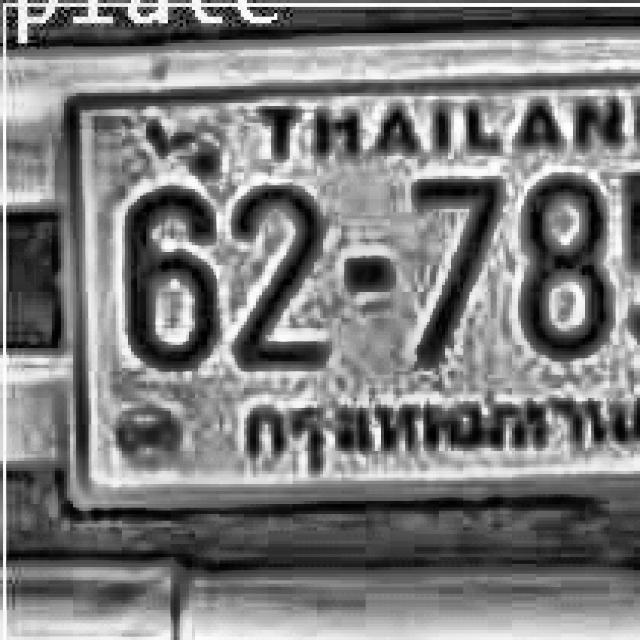license-plate: (46, 70, 640, 524)
